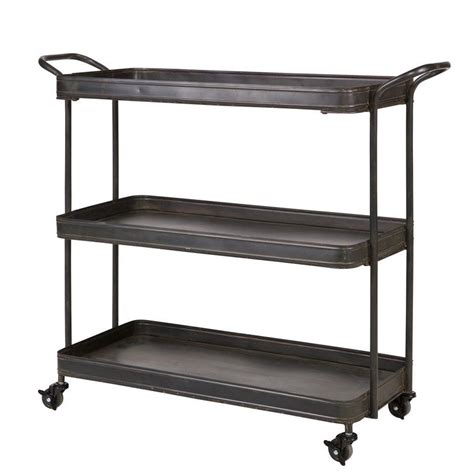Carts: (37, 52, 453, 466)
